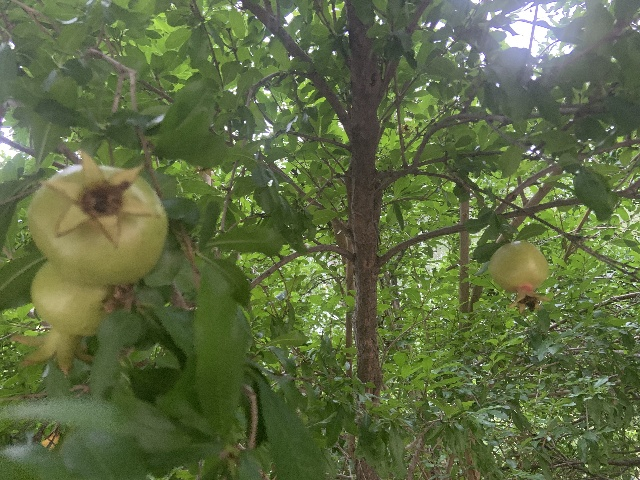mid-growth: (28, 152, 167, 284), (11, 261, 110, 375), (488, 240, 552, 314)
